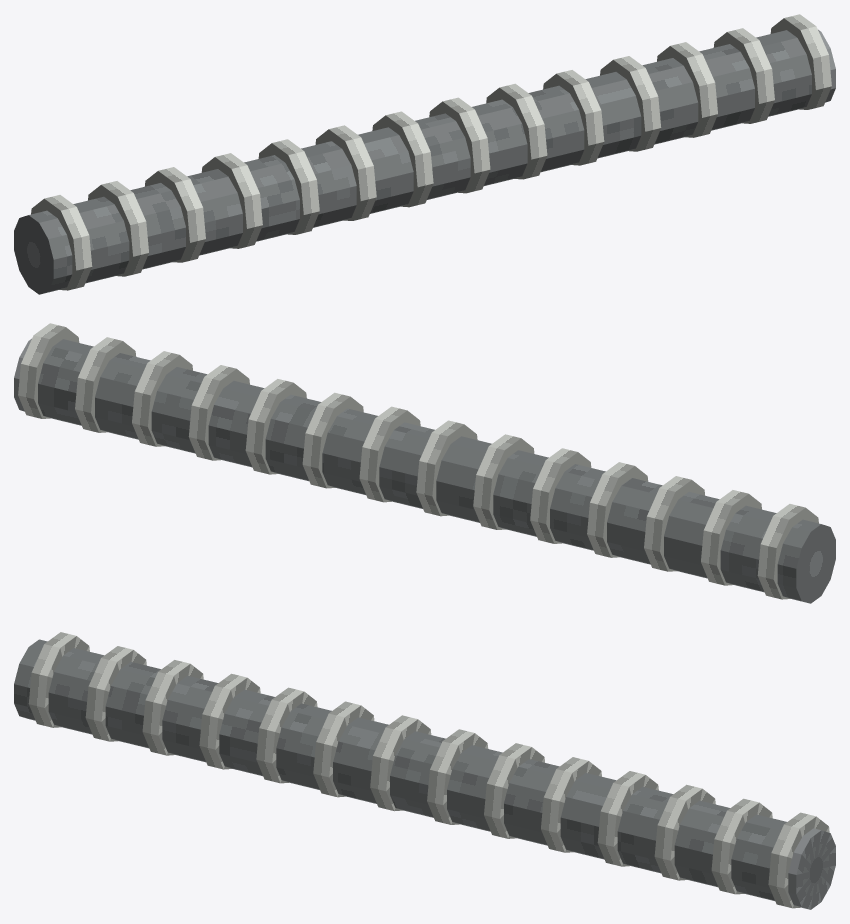
Rendered from rebar.glb.
3 views of the same model, one above another, from view 1: azimuth 30°, elevation 25°; view 2: azimuth 150°, elevation 25°; view 3: azimuth 330°, elevation 25° (orthographic).
Parts seen in each view (by area): view 1: block_bar, block_bar rib (×14); view 2: block_bar, block_bar rib (×14); view 3: block_bar, block_bar rib (×14).
Boxes of the visible parts, left/top/right/bottom form: block_bar: left=14, top=29, right=835, bottom=294; block_bar rib (×14): left=31, top=14, right=831, bottom=290; block_bar: left=14, top=338, right=835, bottom=603; block_bar rib (×14): left=18, top=323, right=818, bottom=599; block_bar: left=14, top=639, right=835, bottom=909; block_bar rib (×14): left=28, top=632, right=829, bottom=908.
Size of the model in its own units: 0.8 by 0.0829 by 0.0842.
1 material, 1 textured.
